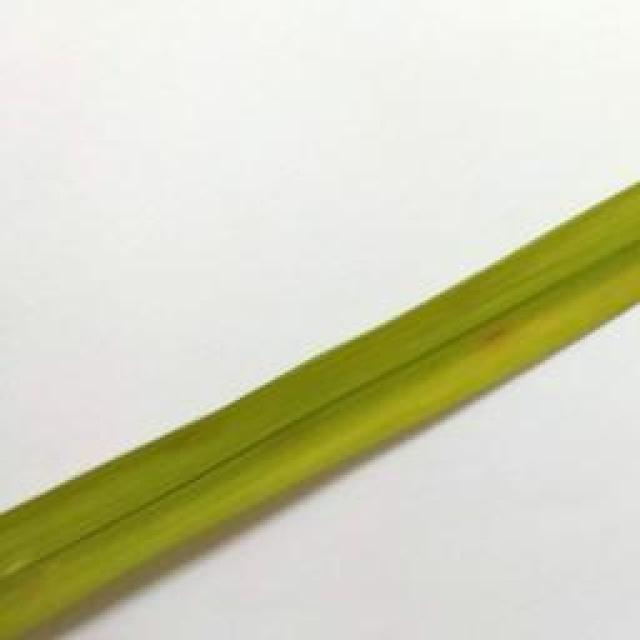Brown_Spot: (478, 324, 516, 362)
